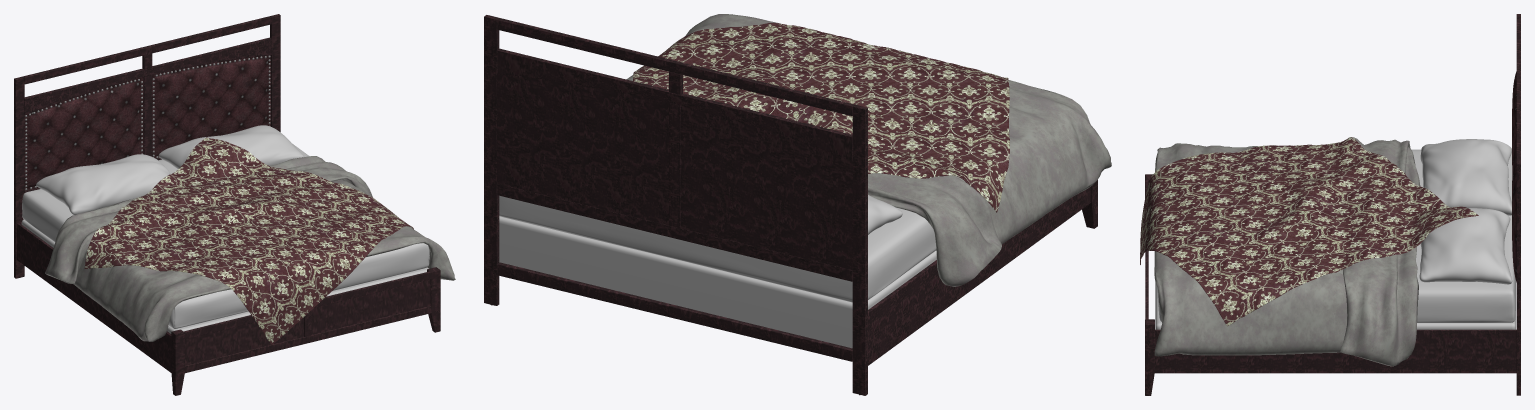
File: Bed2.glb
3 views of the same model, side by side, from view 1: azimuth 30°, elevation 25°; view 2: azimuth 150°, elevation 25°; view 3: azimuth 270°, elevation 25° (orthographic). The views are drawn at different scales.
Visible parts, largest first — view 1: carpet, wood, leather, cushion1, blanket1, metal; view 2: wood, carpet, cushion1, blanket1; view 3: carpet, blanket1, cushion1, wood, leather.
Boxes of the visible parts, x1=… form: carpet: x1=84, y1=137, x2=413, y2=345; wood: x1=14, y1=14, x2=440, y2=395; leather: x1=24, y1=55, x2=270, y2=190; cushion1: x1=21, y1=125, x2=429, y2=333; blanket1: x1=45, y1=156, x2=455, y2=341; metal: x1=25, y1=55, x2=270, y2=190; wood: x1=484, y1=15, x2=1097, y2=395; carpet: x1=633, y1=23, x2=1009, y2=212; cushion1: x1=499, y1=195, x2=936, y2=348; blanket1: x1=626, y1=14, x2=1111, y2=286; carpet: x1=1140, y1=137, x2=1478, y2=326; blanket1: x1=1154, y1=137, x2=1420, y2=366; cushion1: x1=1155, y1=139, x2=1515, y2=329; wood: x1=1145, y1=14, x2=1520, y2=395; leather: x1=1512, y1=71, x2=1516, y2=282.
Bounding box in the file's own units: 2.45 × 1.47 × 2.19.
8 materials, 4 textured.
